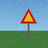sign: (20, 9, 37, 40)
